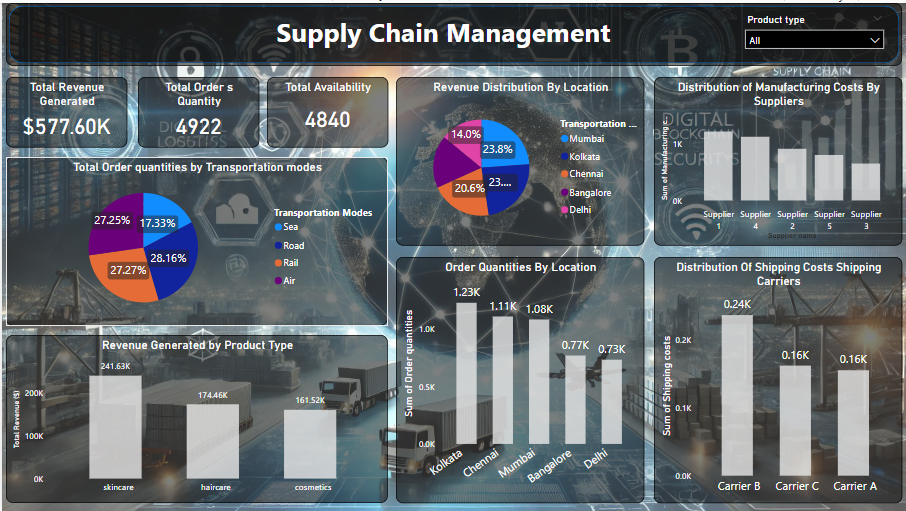

The dashboard page shown, as its layout file describes it:
{"tool":"powerbi","page":{"name":"Page 1","canvas":[1280,720],"ordinal":0},"visuals":[{"type":"shape","box":[5.7,0,1269.9,89.3],"z":0},{"type":"textbox","box":[375.6,9.9,500.3,70.9],"z":1000},{"type":"card","title":"Total Revenue Generated","fields":{"Values":["Sum(supply_chain_data.Revenue generated)"]},"box":[5.9,105.6,171.5,99.7],"z":2000},{"type":"card","title":"Total Order s Quantity ","fields":{"Values":["Sum(supply_chain_data.Order quantities)"]},"box":[192.1,105.6,171.5,99.7],"z":3000},{"type":"card","title":"Total Availability","fields":{"Values":["Sum(supply_chain_data.Availability)"]},"box":[375.3,105.6,171.5,99.7],"z":4000},{"type":"pieChart","title":"Total Order quantities by Transportation modes","fields":{"Y":["Sum(supply_chain_data.Order quantities)"],"Category":["supply_chain_data.Transportation modes"]},"box":[5.9,218.5,541,239],"z":5000},{"type":"columnChart","title":"Revenue Generated by Product Type","fields":{"Y":["Sum(supply_chain_data.Revenue generated)"],"Category":["supply_chain_data.Product type"]},"box":[5.9,470.7,541,237.5],"z":6000},{"type":"pieChart","title":"Revenue Distribution By Location","fields":{"Category":["supply_chain_data.Location"],"Y":["Sum(supply_chain_data.Revenue generated)"]},"box":[558.6,105.6,351.9,239],"z":7000},{"type":"columnChart","title":"Distribution of Manufacturing Costs By Suppliers","fields":{"Category":["supply_chain_data.Supplier name"],"Y":["Sum(supply_chain_data.Manufacturing costs)"]},"box":[923.7,105.6,351.9,239],"z":8000},{"type":"clusteredColumnChart","title":"Order Quantities By Location","fields":{"Y":["Sum(supply_chain_data.Order quantities)"],"Category":["supply_chain_data.Location"]},"box":[558.6,360.7,351.9,349],"z":9000},{"type":"clusteredColumnChart","title":"Distribution Of Shipping Costs Shipping Carriers","fields":{"Y":["Sum(supply_chain_data.Shipping costs)"],"Category":["supply_chain_data.Shipping carriers"]},"box":[923.7,360.7,351.9,349],"z":10000},{"type":"slicer","fields":{"Values":["supply_chain_data.Product type"]},"box":[1042.5,10.3,217,70.4],"z":11500}]}

Visuals, with their boxes in screenshot pixels (x1, y1, x2, y2), scaled from the page's 1280x720 canvas onto the 906x511 screenshot:
shape: locate(4, 0, 903, 63)
textbox: locate(266, 7, 620, 57)
"Total Revenue Generated" card: locate(4, 75, 126, 146)
"Total Order s Quantity " card: locate(136, 75, 257, 146)
"Total Availability" card: locate(266, 75, 387, 146)
"Total Order quantities by Transportation modes" pieChart: locate(4, 155, 387, 325)
"Revenue Generated by Product Type" columnChart: locate(4, 334, 387, 503)
"Revenue Distribution By Location" pieChart: locate(395, 75, 644, 245)
"Distribution of Manufacturing Costs By Suppliers" columnChart: locate(654, 75, 903, 245)
"Order Quantities By Location" clusteredColumnChart: locate(395, 256, 644, 504)
"Distribution Of Shipping Costs Shipping Carriers" clusteredColumnChart: locate(654, 256, 903, 504)
slicer - supply_chain_data.Product type: locate(738, 7, 891, 57)
